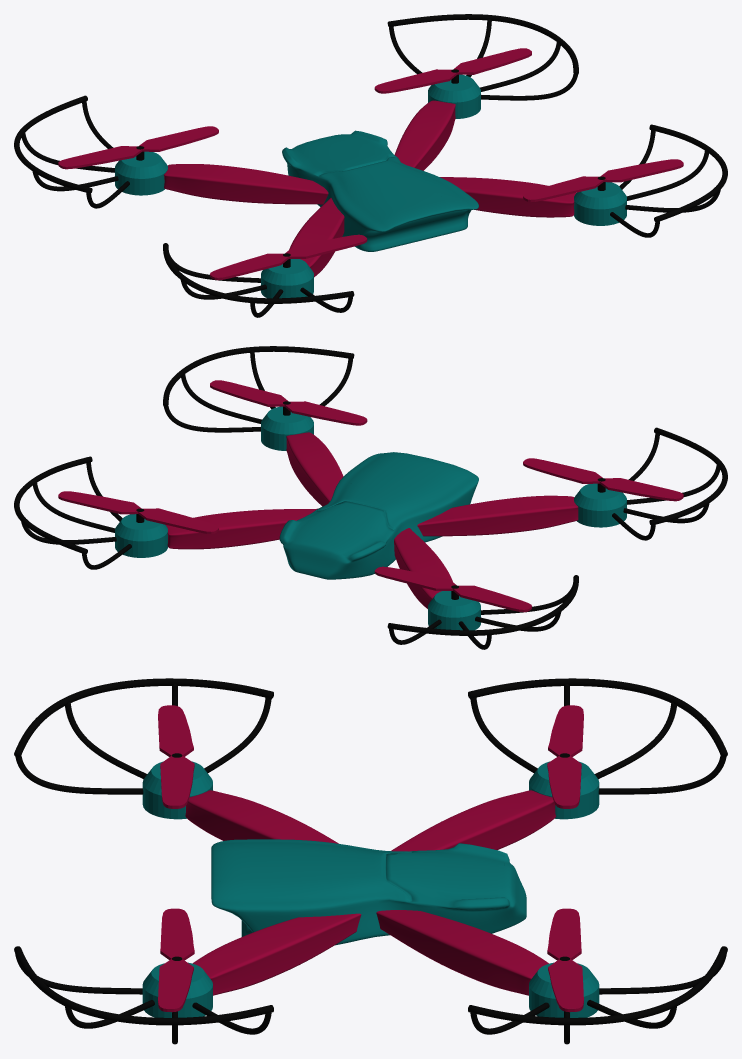
File: nolur nolmaz2.fbx
3 views of the same model, one above another, from view 1: azimuth 30°, elevation 25°; view 2: azimuth 150°, elevation 25°; view 3: azimuth 270°, elevation 25° (orthographic). The views are drawn at different scales.
Visible parts, largest first — view 1: NurbsPath.003, 1, 2, 3, 4; view 2: NurbsPath.003, 2, 1, 4, 3; view 3: NurbsPath.003, 3, 4, 1, 2.
Boxes of the visible parts, left/top/right/bottom form: NurbsPath.003: left=14, top=14, right=727, bottom=317; 1: left=523, top=159, right=683, bottom=202; 2: left=374, top=48, right=531, bottom=93; 3: left=58, top=126, right=218, bottom=169; 4: left=210, top=234, right=367, bottom=280; NurbsPath.003: left=14, top=346, right=727, bottom=649; 2: left=58, top=491, right=218, bottom=534; 1: left=210, top=380, right=367, bottom=425; 4: left=523, top=458, right=683, bottom=501; 3: left=374, top=566, right=531, bottom=612; NurbsPath.003: left=14, top=678, right=727, bottom=1044; 3: left=547, top=705, right=583, bottom=808; 4: left=158, top=705, right=194, bottom=808; 1: left=158, top=908, right=194, bottom=1012; 2: left=547, top=908, right=583, bottom=1012.
Size of the model in its own units: 503 by 46.77 by 443.
1 material, 1 textured.
